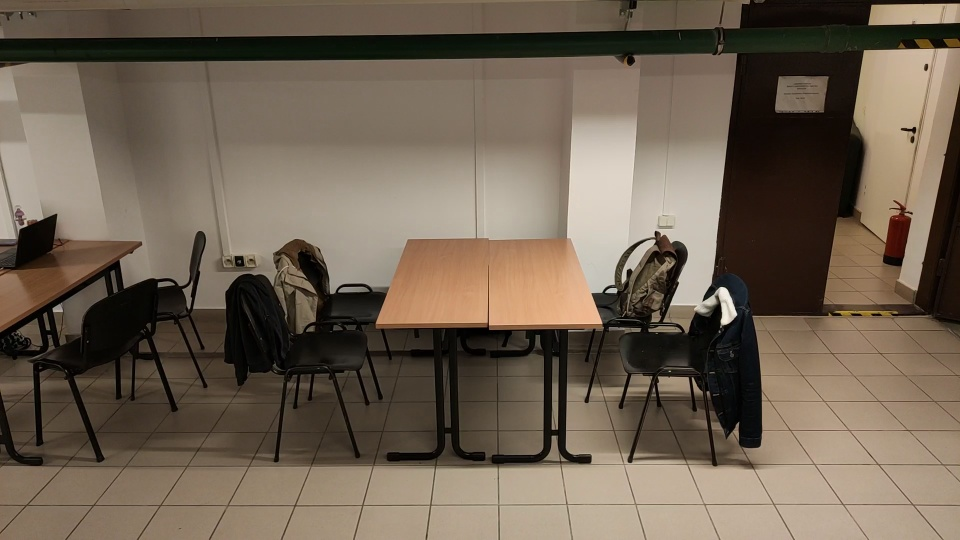chair: (614, 276, 765, 468), (26, 278, 181, 463), (224, 271, 369, 466), (270, 238, 394, 402), (583, 225, 688, 410), (124, 230, 213, 394)
table: (373, 236, 606, 468)
